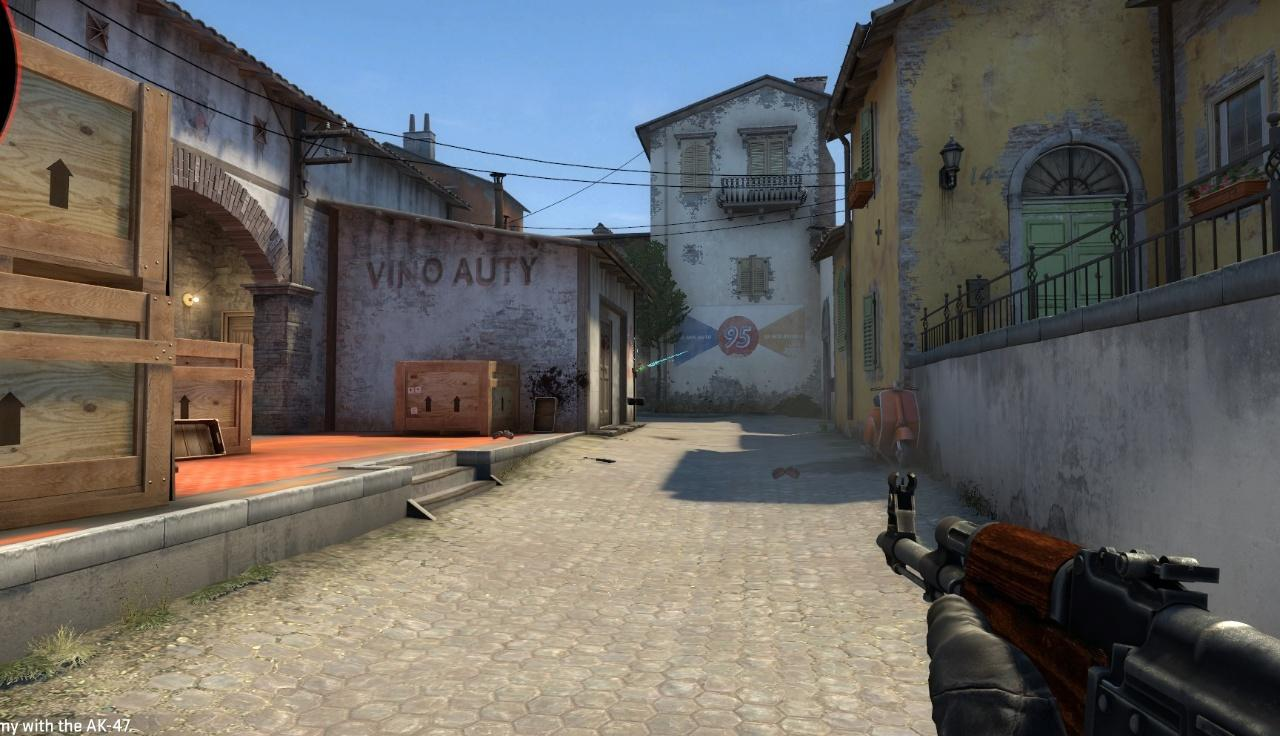rifle: (878, 471, 1280, 733)
